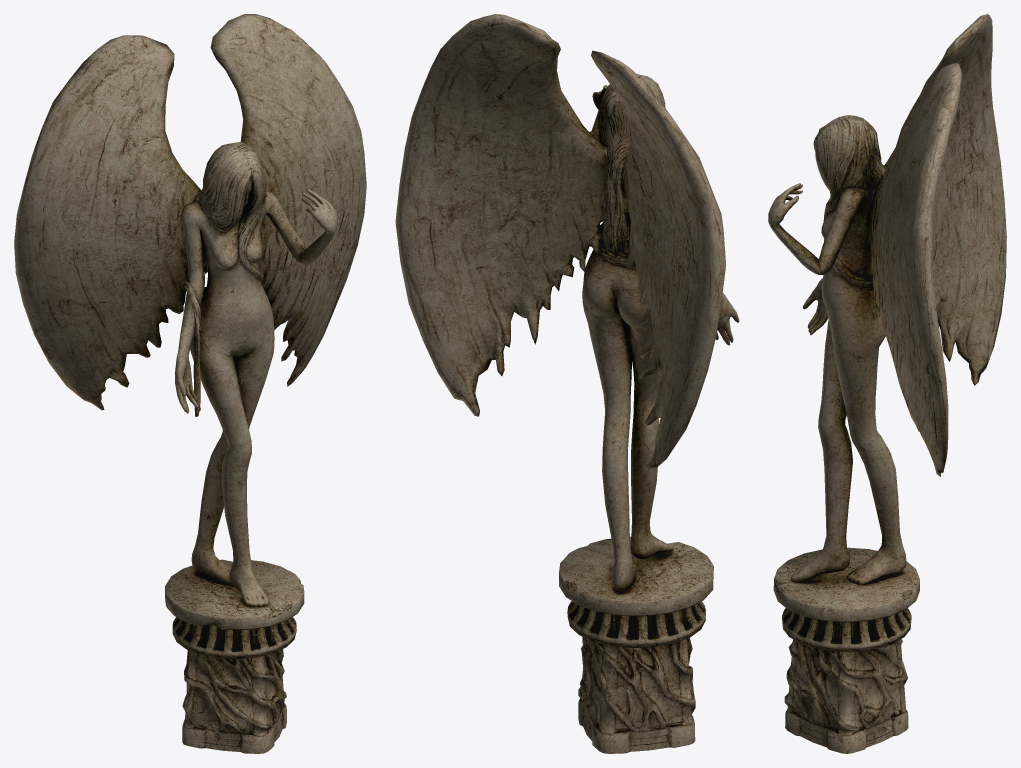
Rendered from angel_statue.dae.
The picture shows the model from 3 angles, left to right: view 1: azimuth 30°, elevation 25°; view 2: azimuth 150°, elevation 25°; view 3: azimuth 270°, elevation 25°; orthographic projection. The views are drawn at different scales.
Parts seen in each view (by area): view 1: Angel; view 2: Angel; view 3: Angel.
Boxes of the visible parts, x1,y1,x2,y2 form: Angel: [14, 14, 366, 753]; Angel: [395, 14, 739, 753]; Angel: [768, 14, 1006, 753].
Size of the model in its own units: 1.72 by 3.42 by 1.07.
